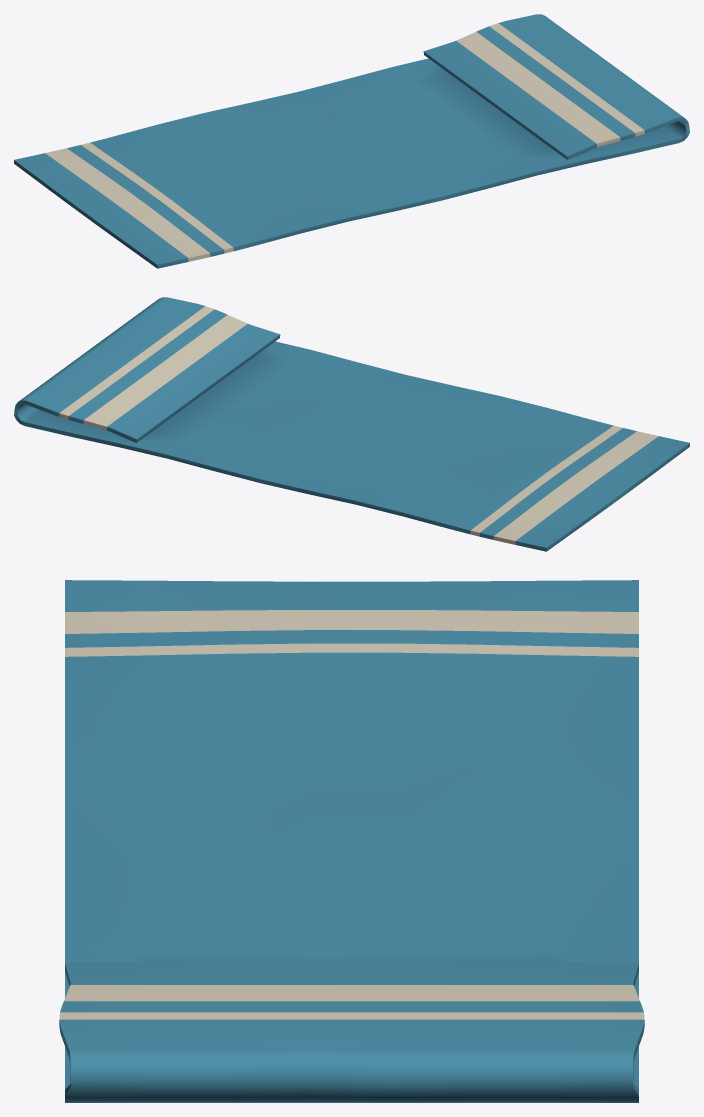
File: BeachTowel.fbx
3 views of the same model, one above another, from view 1: azimuth 30°, elevation 25°; view 2: azimuth 150°, elevation 25°; view 3: azimuth 270°, elevation 25° (orthographic). The views are drawn at different scales.
Parts seen in each view (by area): view 1: BeachTowel; view 2: BeachTowel; view 3: BeachTowel.
Boxes of the visible parts, box(x1,y1,x2,y2) form: BeachTowel: box(14, 14, 689, 268); BeachTowel: box(14, 297, 689, 551); BeachTowel: box(59, 580, 644, 1102).
Size of the model in its own units: 1.72 by 0.076 by 0.8158.
